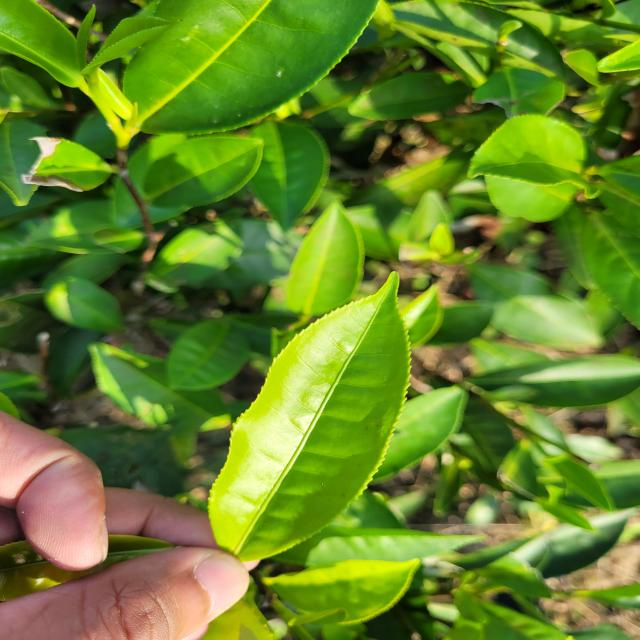Category B 2-4 days: (163, 248, 448, 577)
